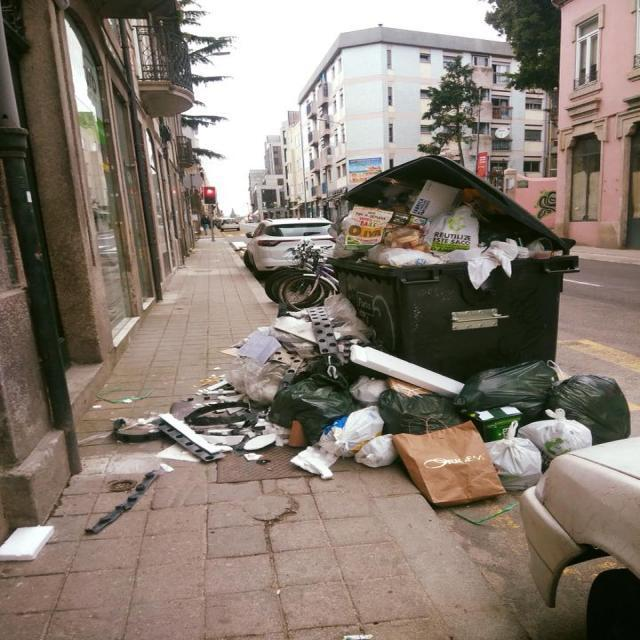high trash: (114, 295, 630, 506)
less trash: (0, 526, 53, 561)
